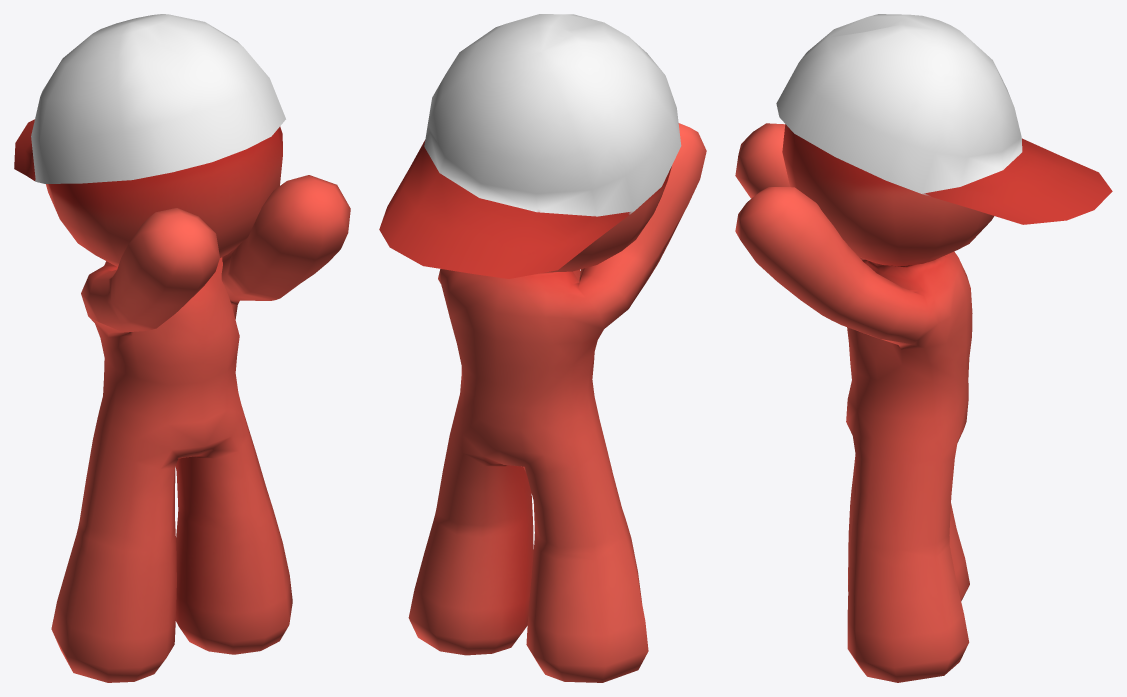
File: Demo_Idle.fbx
3 views of the same model, side by side, from view 1: azimuth 30°, elevation 25°; view 2: azimuth 150°, elevation 25°; view 3: azimuth 270°, elevation 25° (orthographic). The views are drawn at different scales.
Parts seen in each view (by area): view 1: Demo_Idle; view 2: Demo_Idle; view 3: Demo_Idle.
Part boxes in pixels (left/top/right/bottom): Demo_Idle: left=14, top=14, right=350, bottom=682; Demo_Idle: left=379, top=14, right=706, bottom=682; Demo_Idle: left=735, top=14, right=1112, bottom=682.
Size of the model in its own units: 103 by 256 by 144.
